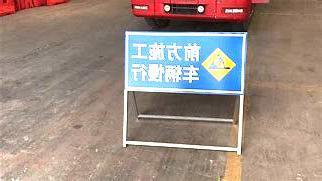sign: (121, 31, 251, 97)
